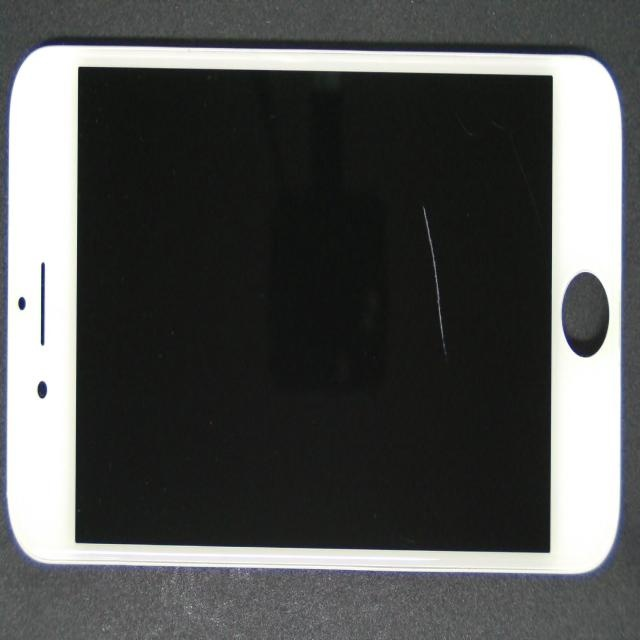scratch: (219, 21, 637, 327)
